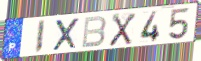4: (139, 9, 161, 43)
5: (168, 7, 190, 40)
B: (80, 15, 108, 50)
I: (34, 19, 47, 55)
X: (52, 17, 81, 52), (108, 12, 137, 47)
